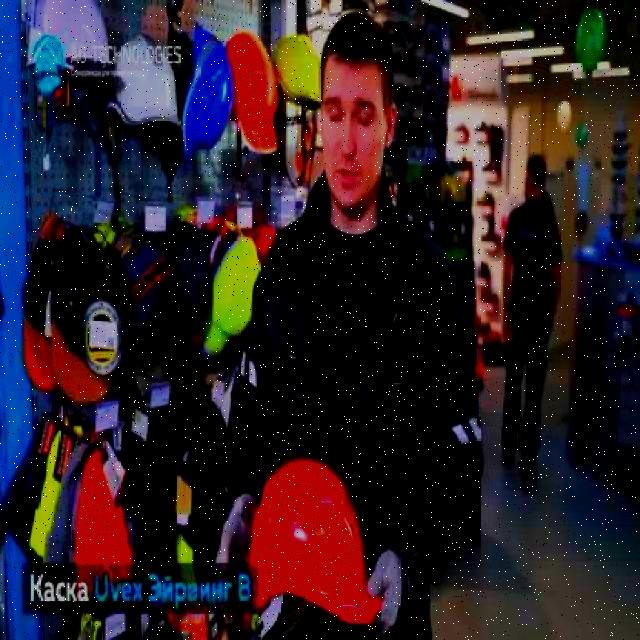Gloves: (215, 490, 258, 626), (364, 547, 410, 638)
Helmet: (246, 457, 386, 626), (179, 19, 236, 172), (104, 35, 185, 134), (24, 0, 113, 78), (227, 29, 280, 157), (274, 34, 323, 108)
